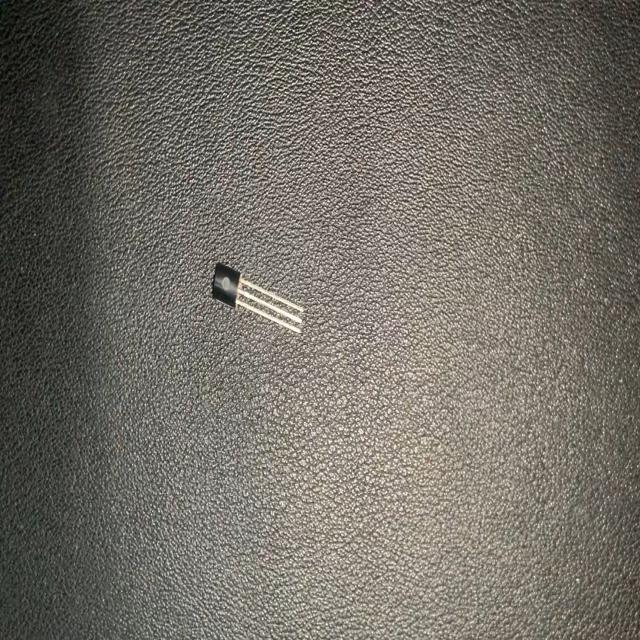BJT: (209, 255, 305, 345)
